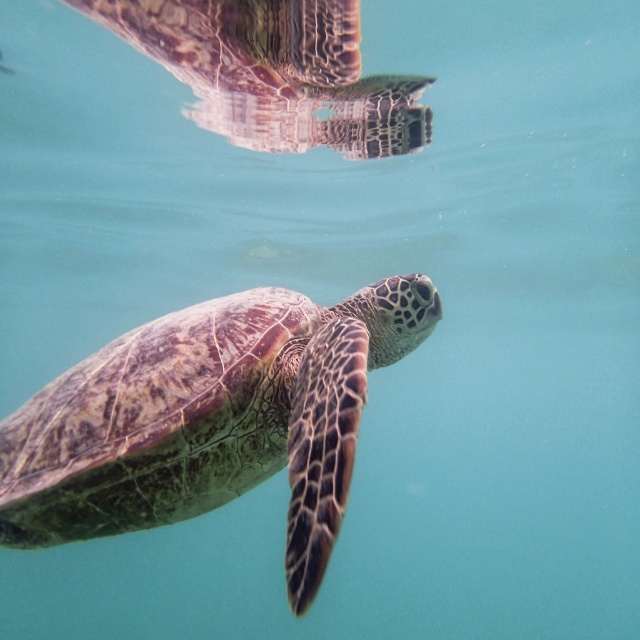Sea turtle: (0, 271, 444, 622), (62, 0, 438, 161)
